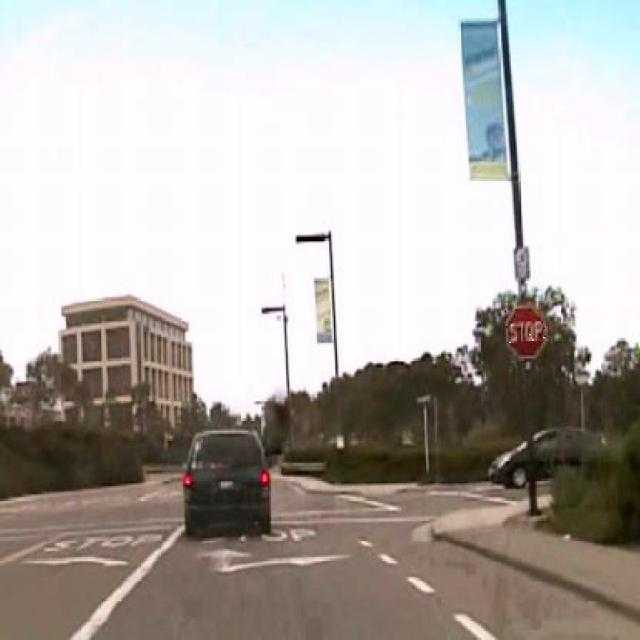stop: (505, 304, 547, 358)
